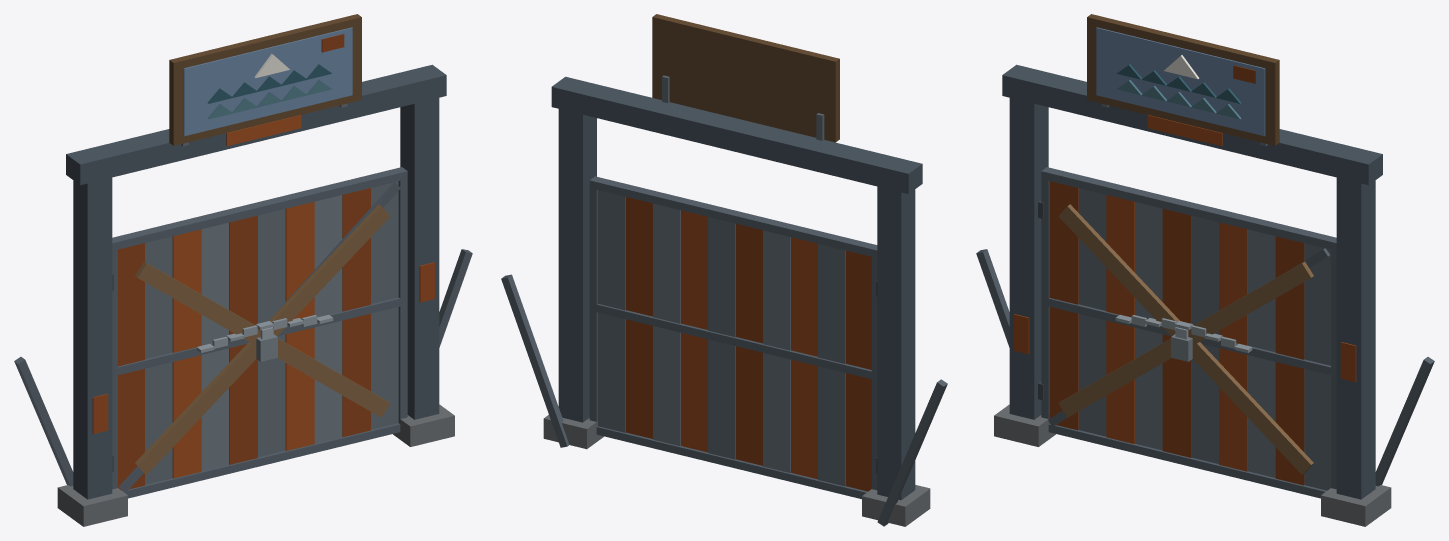
Rendered from Lobby_Door_Sea.obj.
3 views of the same model, side by side, from view 1: azimuth 30°, elevation 25°; view 2: azimuth 150°, elevation 25°; view 3: azimuth 330°, elevation 25° (orthographic). The views are drawn at different scales.
Parts seen in each view (by area): view 1: GateSea__Door_GateSea__Door, GateSea__Frame_GateSea__Frame, GateSea__Sign_GateSea__Sign, GateSea__Lock_GateSea__Lock; view 2: GateSea__Door_GateSea__Door, GateSea__Frame_GateSea__Frame, GateSea__Sign_GateSea__Sign; view 3: GateSea__Door_GateSea__Door, GateSea__Frame_GateSea__Frame, GateSea__Sign_GateSea__Sign, GateSea__Lock_GateSea__Lock.
Boxes of the visible parts, x1,y1,x2,y2 form: GateSea__Door_GateSea__Door: [112, 167, 407, 498]; GateSea__Frame_GateSea__Frame: [14, 64, 472, 526]; GateSea__Sign_GateSea__Sign: [169, 14, 361, 145]; GateSea__Lock_GateSea__Lock: [135, 204, 390, 474]; GateSea__Door_GateSea__Door: [589, 176, 877, 499]; GateSea__Frame_GateSea__Frame: [501, 75, 947, 526]; GateSea__Sign_GateSea__Sign: [652, 14, 839, 142]; GateSea__Door_GateSea__Door: [1038, 167, 1336, 498]; GateSea__Frame_GateSea__Frame: [976, 64, 1434, 526]; GateSea__Sign_GateSea__Sign: [1087, 14, 1279, 145]; GateSea__Lock_GateSea__Lock: [1058, 204, 1313, 474].
Bounding box in the file's own units: 18.35 × 17.12 × 2.05.
